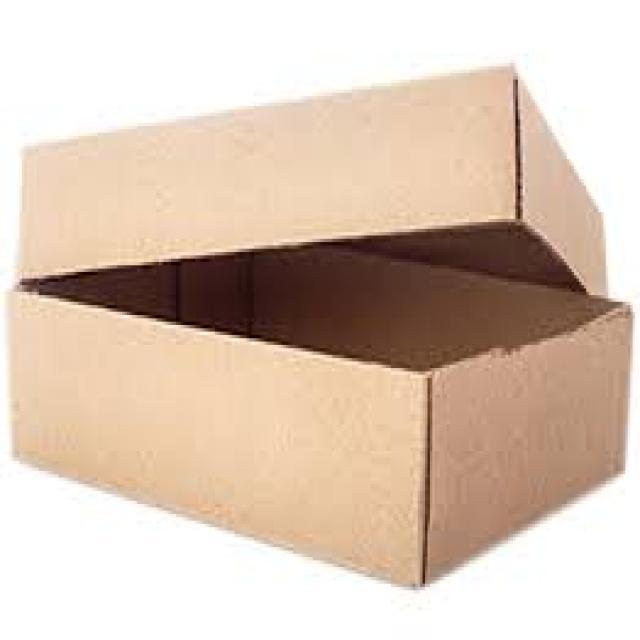Cardboard: (10, 250, 634, 589), (20, 63, 609, 304)
